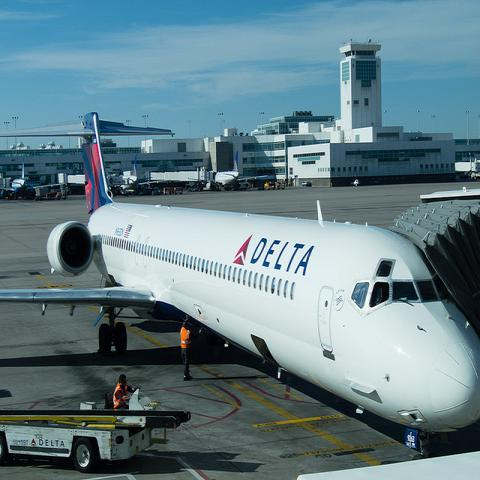truck: (0, 410, 190, 473), (120, 178, 135, 196)
